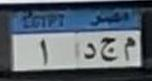1: (39, 37, 50, 67)
daal: (82, 41, 97, 62)
jeem: (100, 36, 119, 64)
meem: (121, 35, 137, 63)
